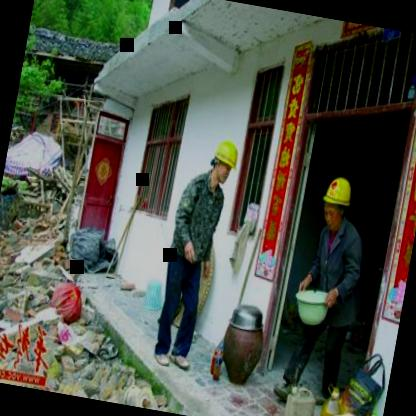helmet: (315, 166, 358, 236), (204, 131, 242, 190)
